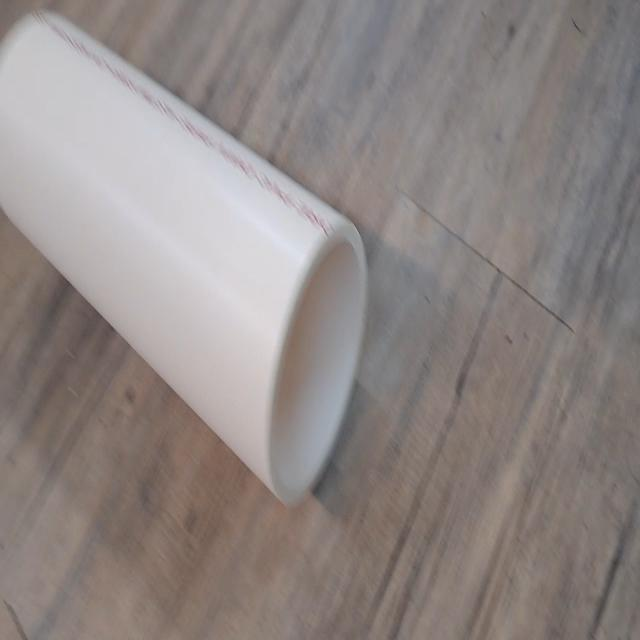CORAL: (0, 0, 377, 508)
